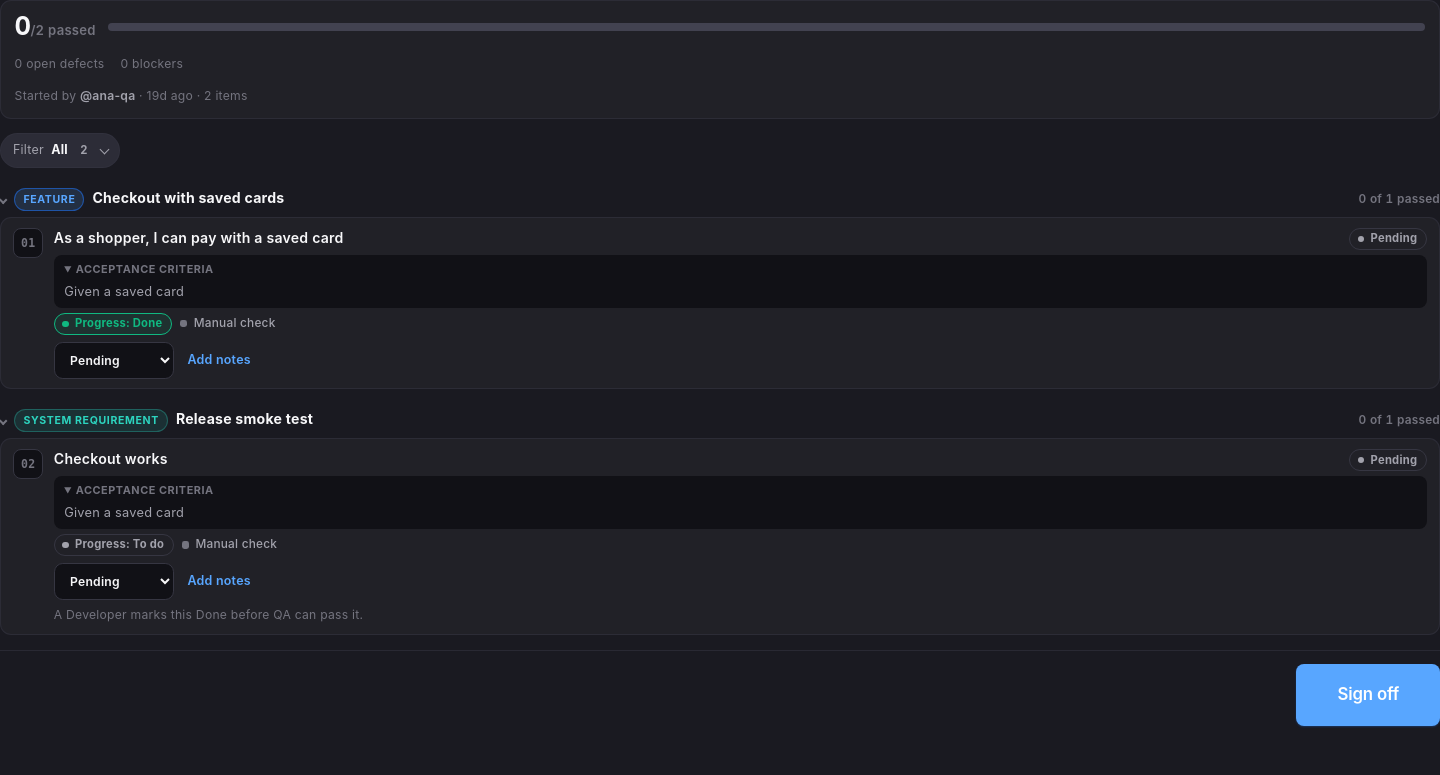
Test: ProjectRunPanel › records Passed in one click, and opens the details for Failed
Select "Passed" in the dropdown named "Verification of item 1" at [114, 360], box [54,342,174,379]
Select "Failed" in the dropdown named "Verification of item 2" at [114, 582], box [54,563,174,600]
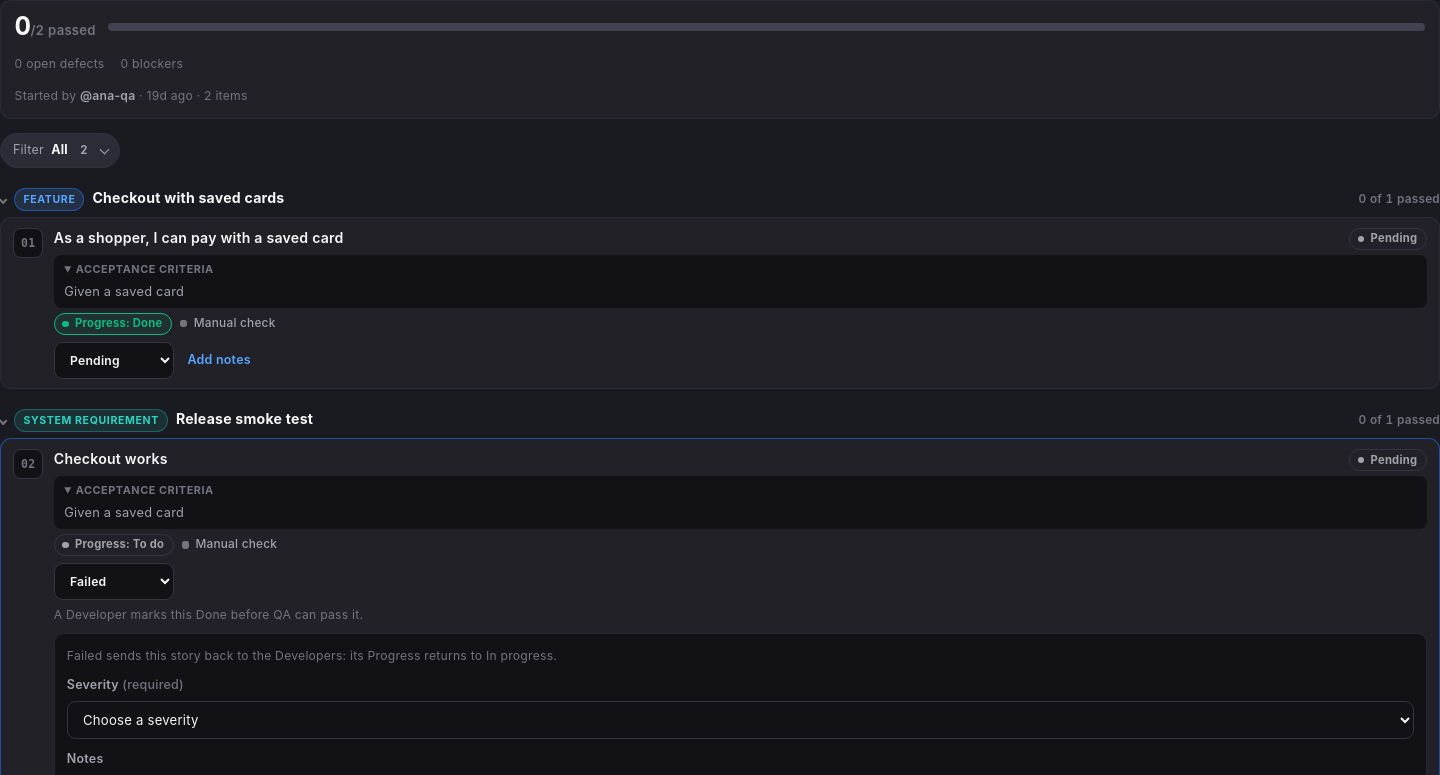
Now the form shows "Severity", box [67,677,119,692]
